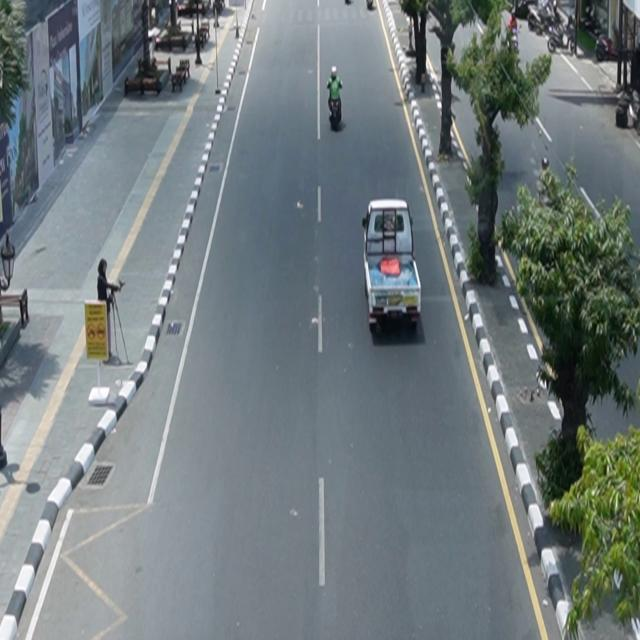car: (363, 199, 422, 334)
